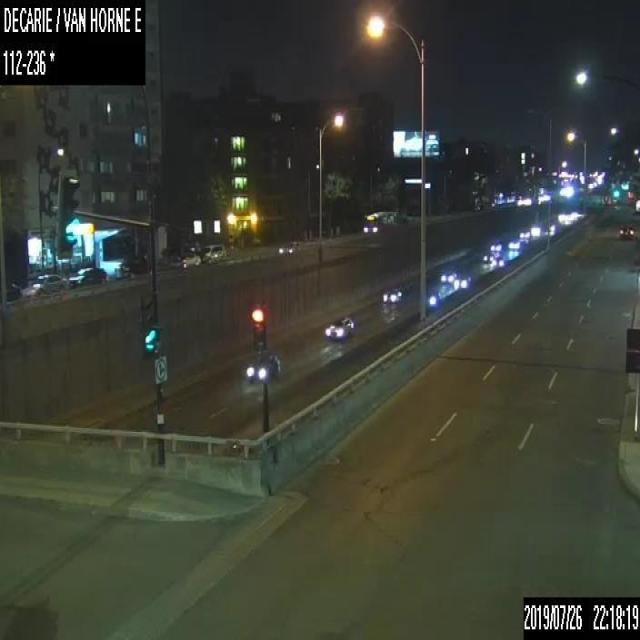vehicle: (243, 352, 279, 381), (22, 274, 68, 296), (67, 266, 107, 288), (361, 210, 399, 233), (324, 313, 354, 339), (175, 246, 202, 268), (199, 243, 225, 263), (383, 285, 404, 302), (278, 239, 301, 253), (427, 286, 441, 308), (5, 284, 21, 299), (618, 222, 632, 239), (454, 275, 472, 288), (440, 270, 456, 283), (491, 255, 506, 265), (518, 227, 530, 239), (483, 251, 494, 262), (490, 239, 501, 250), (508, 238, 520, 248), (548, 221, 558, 232), (531, 225, 540, 235), (635, 198, 639, 210)
